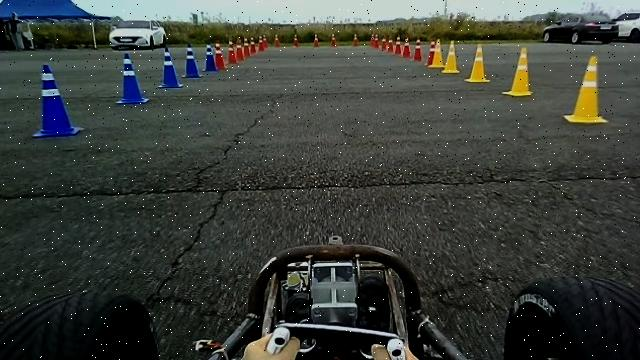blue cone: (31, 62, 82, 138), (114, 52, 149, 104), (157, 45, 182, 88), (180, 42, 203, 78), (202, 41, 218, 71)
red cone: (212, 41, 226, 69), (426, 39, 436, 66), (234, 36, 245, 60), (227, 40, 237, 64), (412, 37, 421, 61), (402, 36, 410, 58), (394, 34, 402, 55)
yellow cone: (563, 55, 608, 124), (501, 47, 532, 97), (464, 42, 490, 83), (440, 39, 460, 73)
